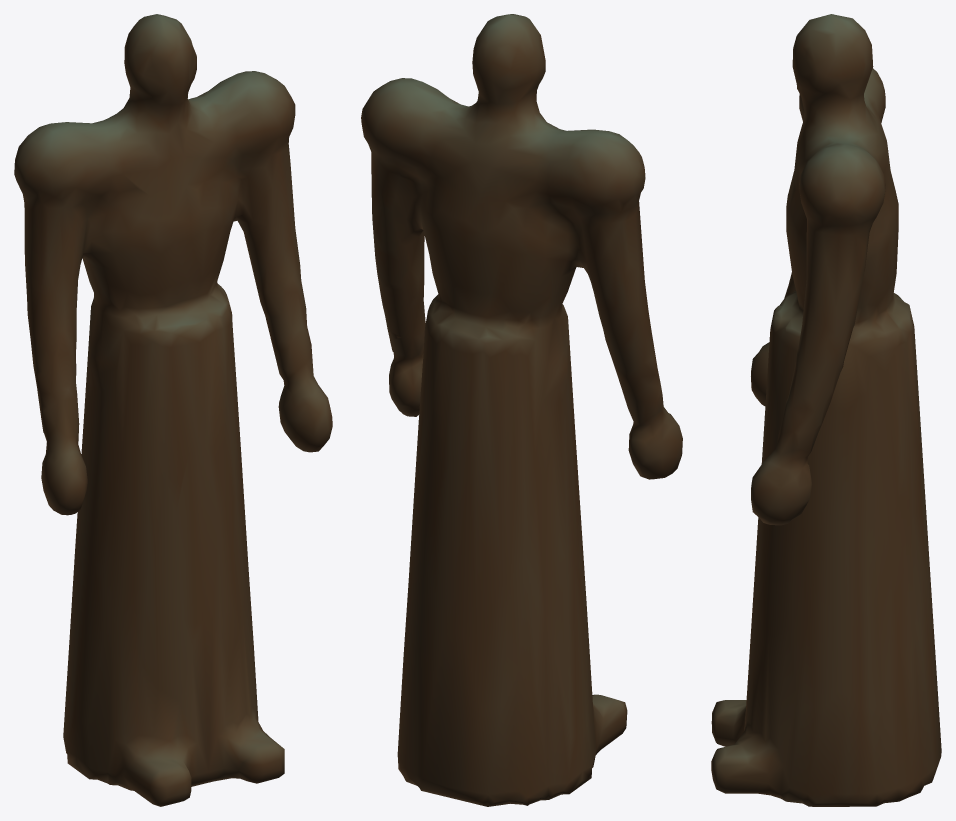
Rendered from street1.glb.
3 renders of one model, left to right at view 1: azimuth 30°, elevation 25°; view 2: azimuth 150°, elevation 25°; view 3: azimuth 270°, elevation 25°, orthographic.
Visible parts, largest first — view 1: sv_m; view 2: sv_m; view 3: sv_m.
Part boxes in pixels (x1,y1,x2,y2): sv_m: (14,14,332,806); sv_m: (361,14,682,806); sv_m: (711,14,941,806).
Bounding box in the file's own units: 0.395 × 1 × 0.2786.
